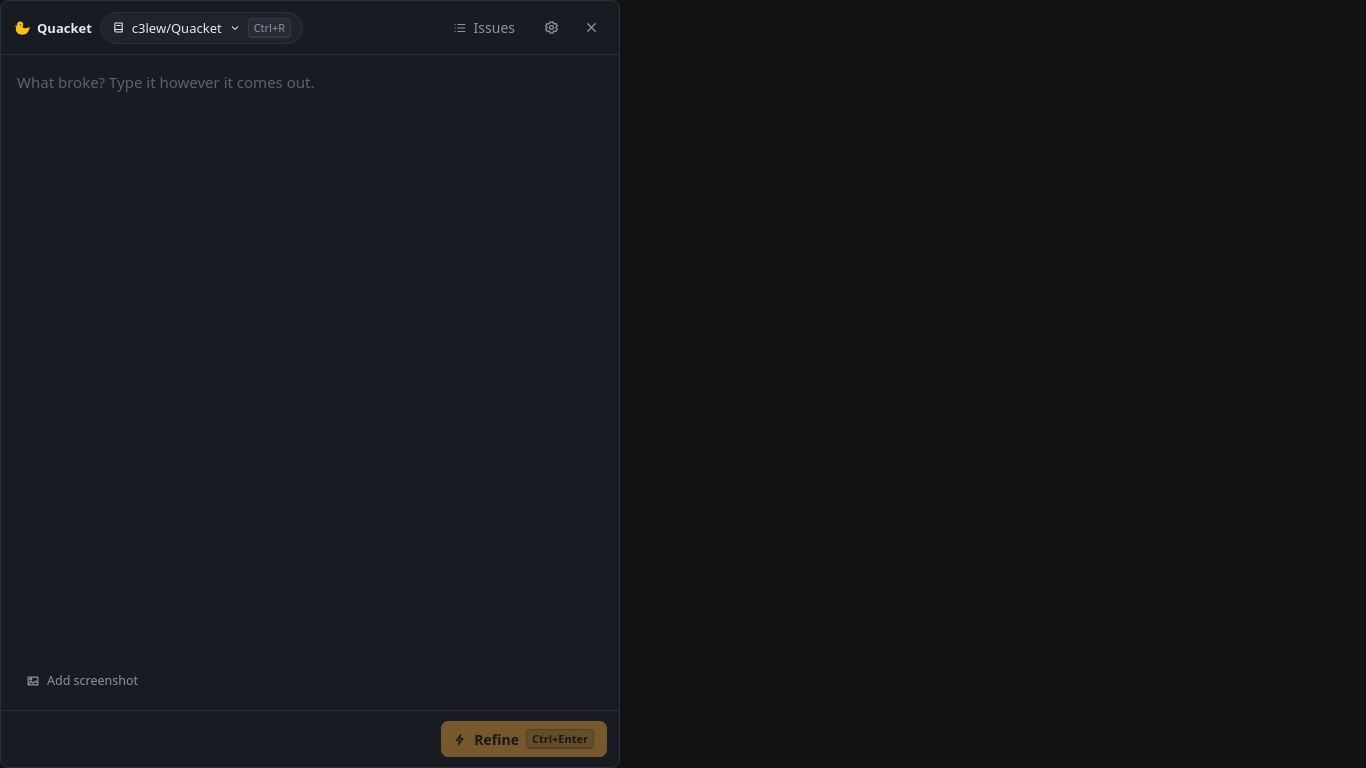
Test: an image that has been marked up › lets Try again land the marks that failed the first time
Type "the export dialog is unreadable" into the text box with placeholder "What broke? Type it however it comes out." at (310, 361), box top-left (15, 69), bottom-right (605, 653)
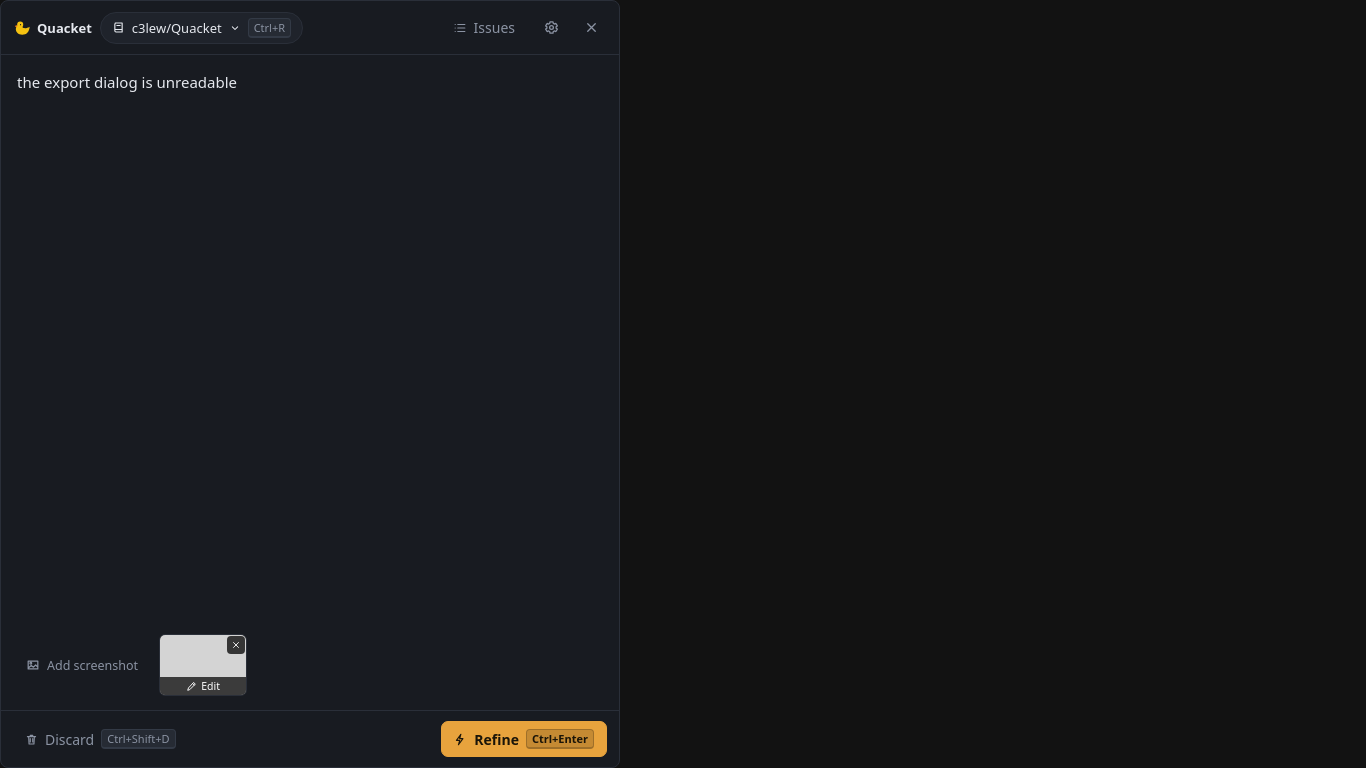
Click the button with aria-label "Edit screenshot 1" at (203, 665), box top-left (159, 634), bottom-right (247, 696)
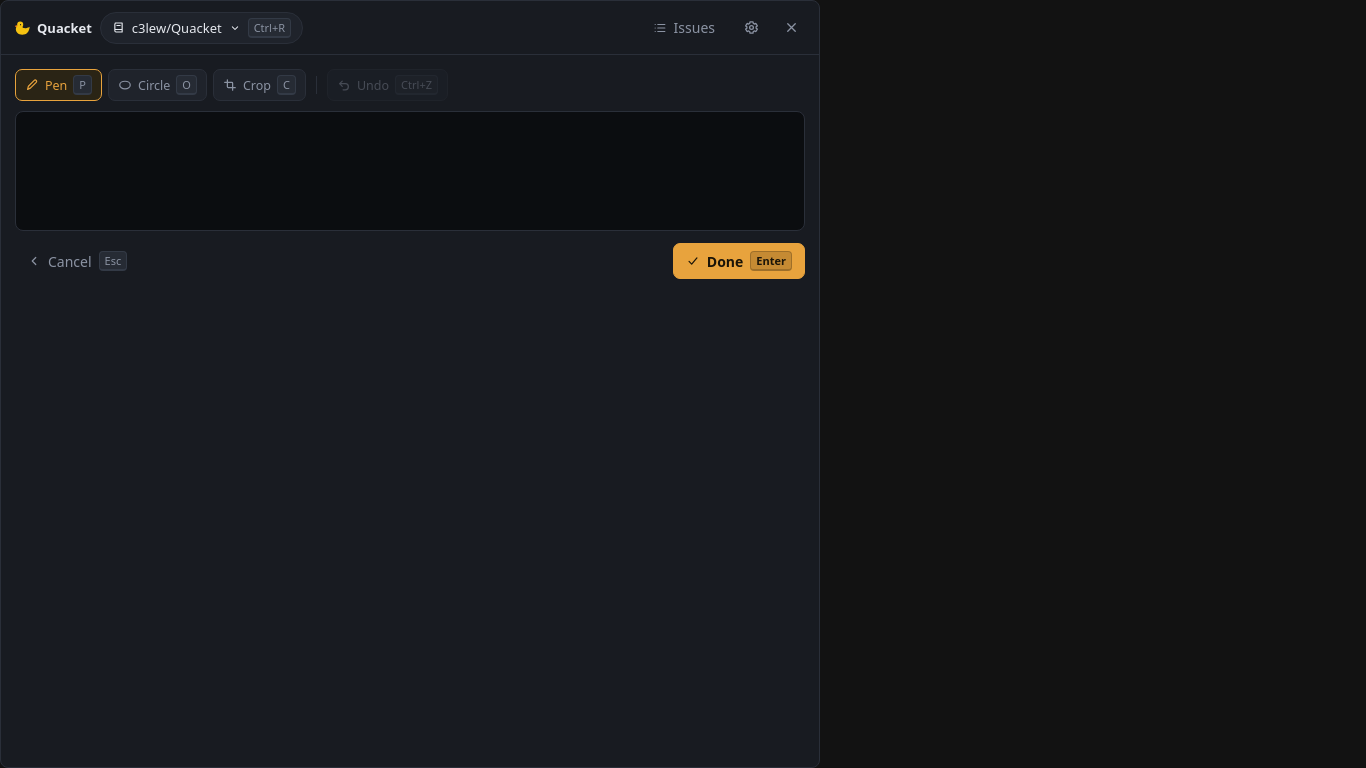
Expected: the button "Done Enter" is shown
Click the button "Done Enter" at (739, 261), box top-left (673, 243), bottom-right (805, 279)
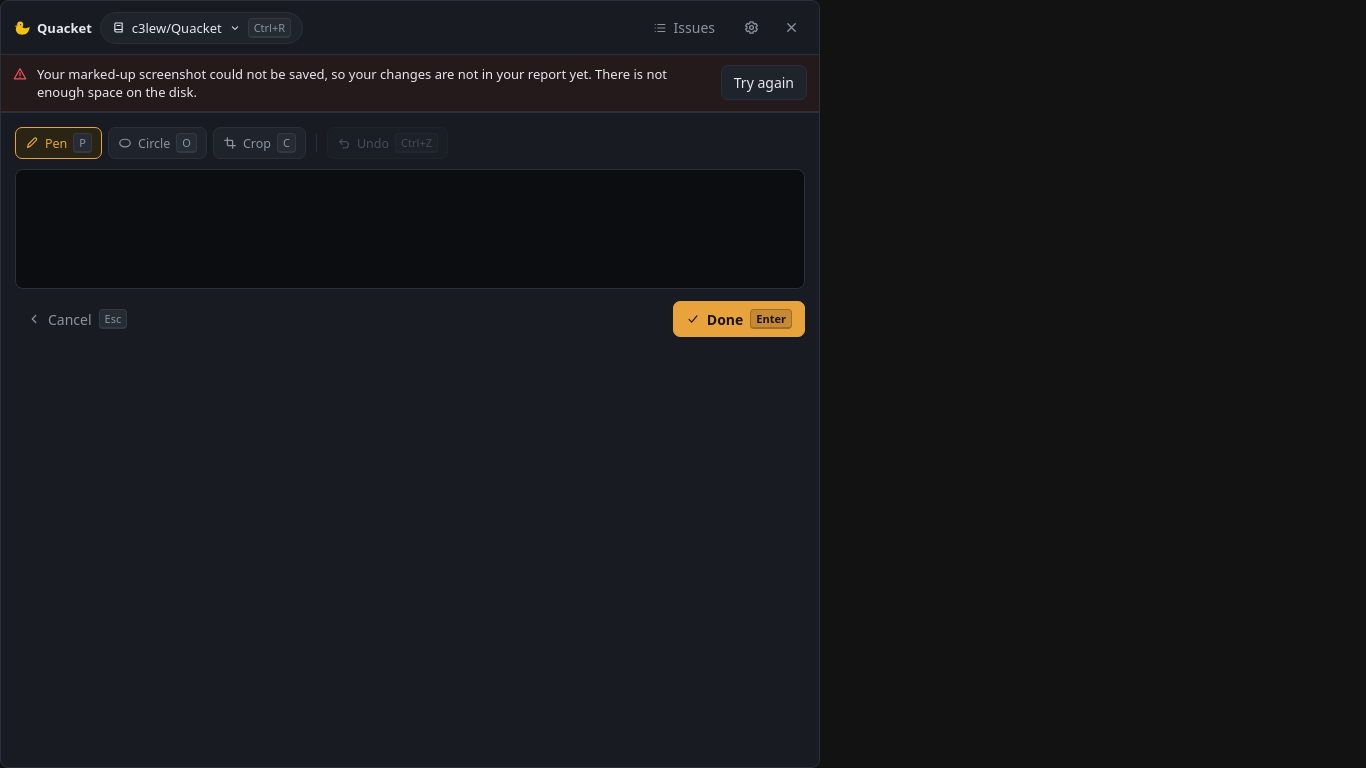
Expected: the text "could not be saved" is shown, top-left (37, 65), bottom-right (667, 101)
Click the button "Try again" at (764, 82), box top-left (721, 65), bottom-right (807, 100)
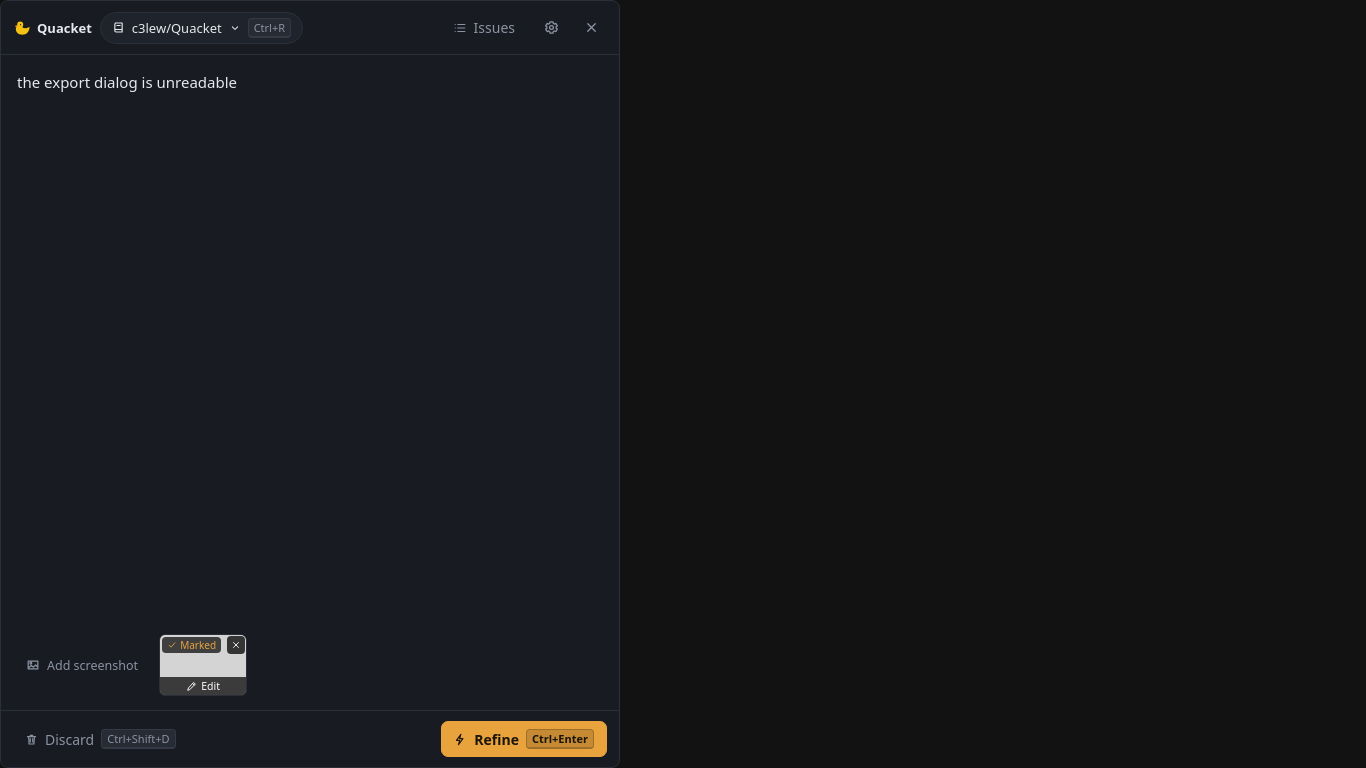
Expected: the button "Done" is gone
Expected: the text "could not be saved" is gone
